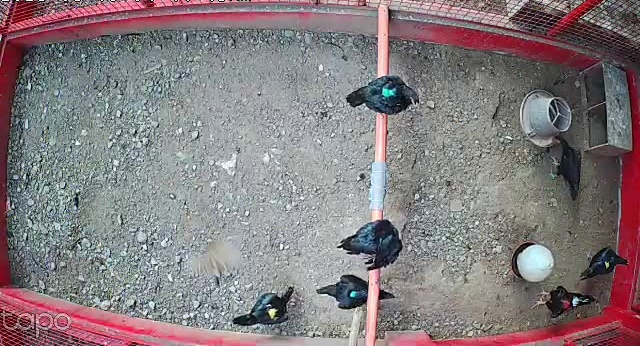Chicken: (333, 219, 405, 270), (311, 272, 397, 312), (345, 71, 423, 115), (230, 282, 299, 328), (547, 135, 584, 199), (574, 242, 630, 284)
Rooster: (528, 284, 604, 320)
Saddle_Color_Blue: (350, 291, 356, 297)
Saddle_Color_Yellow: (264, 302, 279, 320)
Saddle_Color_YellowGreen: (604, 260, 614, 269)
